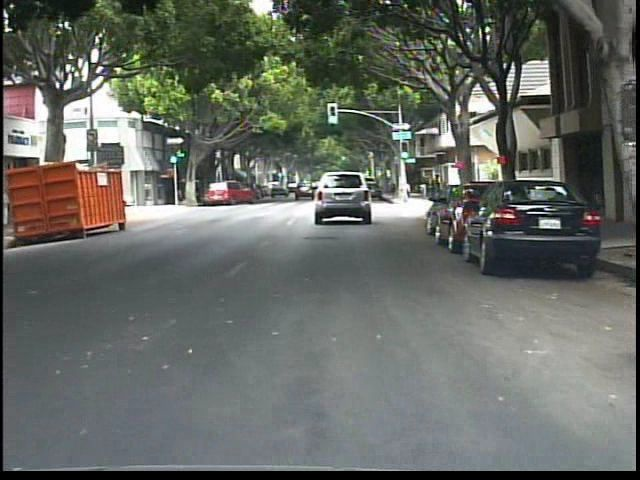person: (419, 172, 432, 201)
